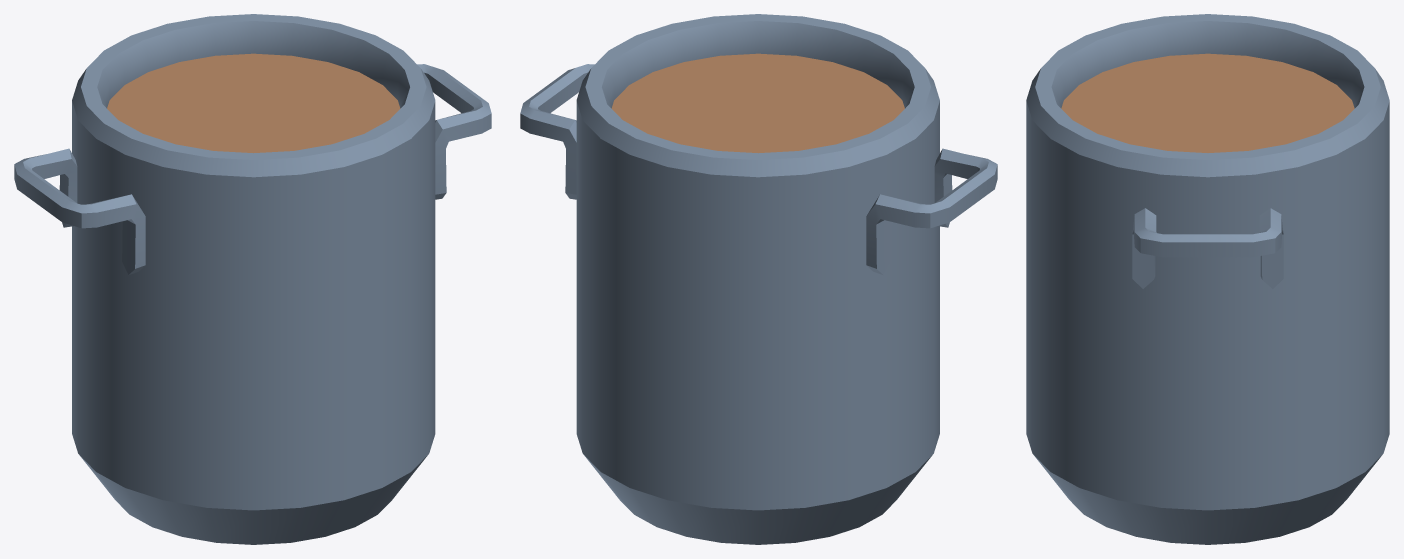
File: Environment_Pot_2_Filled.fbx
The picture shows the model from 3 angles, left to right: view 1: azimuth 30°, elevation 25°; view 2: azimuth 150°, elevation 25°; view 3: azimuth 270°, elevation 25°; orthographic projection.
Visible parts, largest first — view 1: Environment_Pot_2_Filled; view 2: Environment_Pot_2_Filled; view 3: Environment_Pot_2_Filled.
Boxes of the visible parts, x1,y1,x2,y2 form: Environment_Pot_2_Filled: (14,14,491,544); Environment_Pot_2_Filled: (520,14,997,544); Environment_Pot_2_Filled: (1026,14,1389,544).
Bounding box in the file's own units: 140 × 125 × 104.
